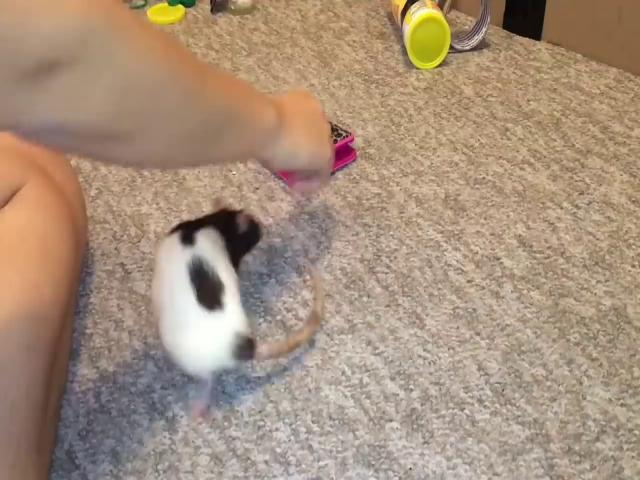Tikus: (152, 198, 264, 406)
